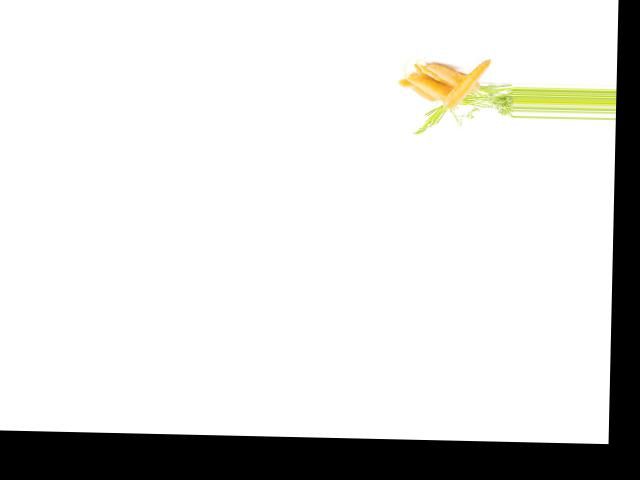carrot: (417, 64, 483, 93)
